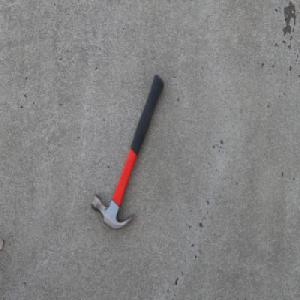Hammer: (90, 74, 164, 231)
